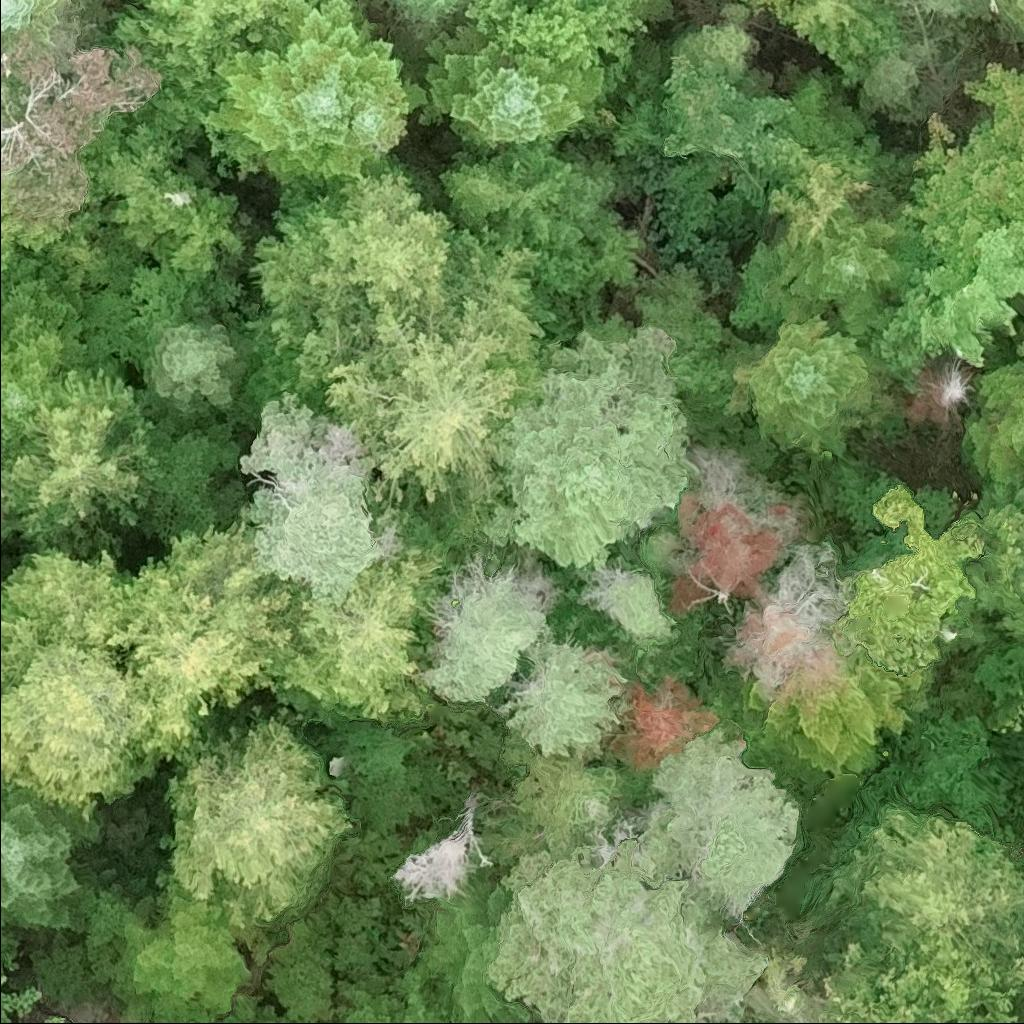crown: (295, 221, 545, 512), (485, 799, 771, 1023), (475, 319, 701, 569), (119, 516, 300, 770), (198, 0, 427, 199), (156, 716, 359, 933), (244, 165, 461, 364), (260, 540, 455, 724), (235, 390, 398, 608), (5, 358, 167, 557), (831, 807, 1023, 972), (0, 615, 156, 816), (647, 720, 799, 920), (709, 654, 928, 790), (902, 61, 1023, 299), (0, 41, 163, 217), (834, 488, 987, 675), (407, 23, 620, 154), (114, 0, 282, 139), (496, 721, 653, 862), (752, 200, 901, 343), (745, 310, 885, 459), (414, 557, 552, 705), (818, 926, 1019, 1023), (103, 887, 246, 1023), (489, 622, 626, 754), (0, 277, 94, 469), (421, 870, 531, 1023), (0, 544, 131, 667), (916, 224, 1023, 369), (0, 778, 100, 933), (666, 56, 804, 168), (135, 315, 249, 418), (968, 481, 1023, 643), (959, 360, 1023, 489), (373, 0, 469, 44), (0, 0, 76, 43), (338, 978, 405, 1023), (932, 362, 973, 426), (0, 987, 40, 1023), (915, 0, 967, 18), (989, 0, 1009, 15), (0, 964, 6, 987), (50, 1016, 63, 1023)
